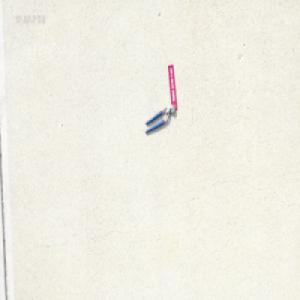Label: (167, 63, 177, 109)
Pliers: (144, 103, 175, 134)
